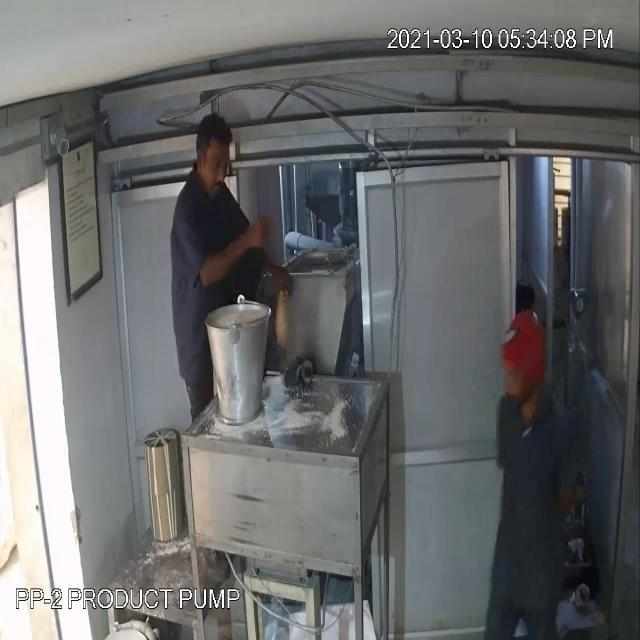No_Gloves: (199, 226, 273, 297)
